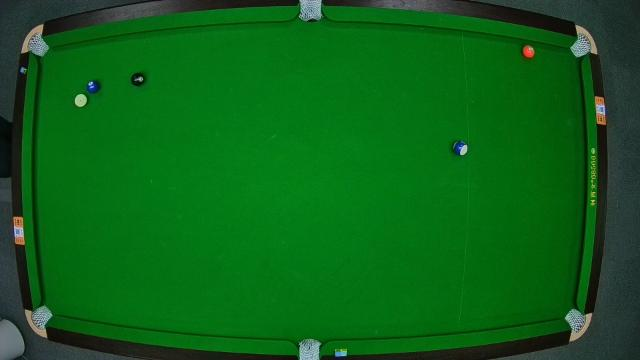bag1: (28, 35, 44, 55)
bag2: (300, 1, 322, 22)
bag3: (573, 36, 591, 56)
bag4: (30, 306, 48, 328)
bag5: (298, 342, 320, 360)
bag6: (568, 312, 586, 332)
ball0: (75, 93, 87, 108)
ball10: (451, 140, 467, 156)
ball2: (86, 79, 102, 95)
ball5: (523, 46, 535, 58)
ball8: (132, 71, 144, 87)
